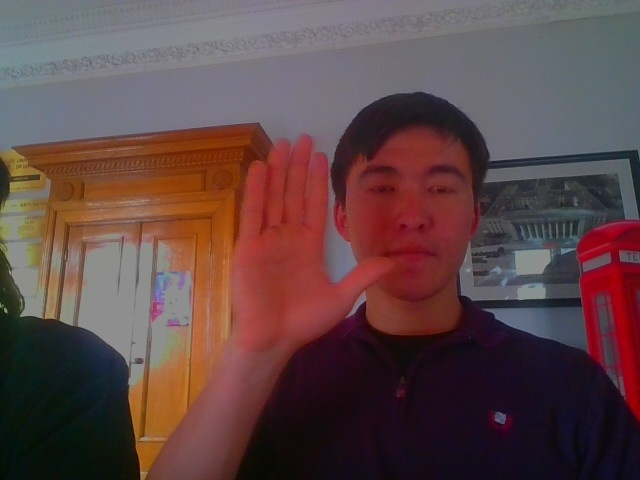Hello: (210, 120, 399, 356)
